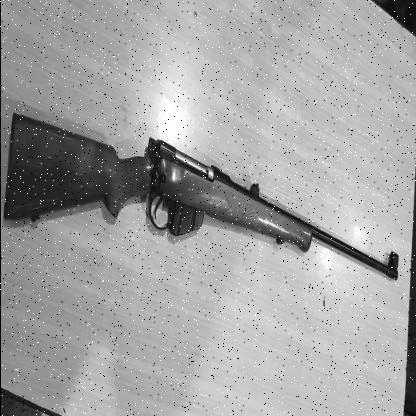rifle: (0, 108, 400, 286)
